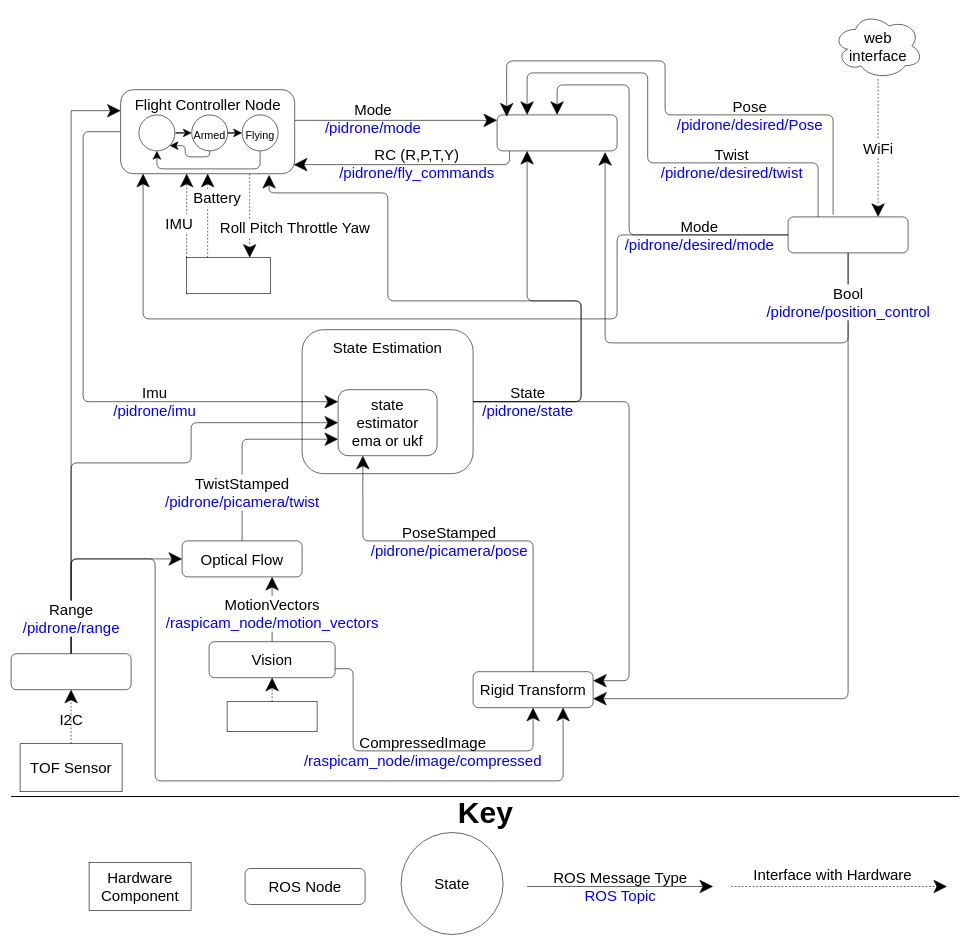
This 971x945 diagram has some shape labels left out. The centre of each missing label's shape, as x and y in pixels:
"Camera" belongs at pixel 271 716.
"Disarmed" belongs at pixel 156 132.
"Flight Controller" belongs at pixel 228 275.
"PID" belongs at pixel 556 132.
"rosbridge" belongs at pixel 848 234.
"TOF Node" belongs at pixel 70 671.
